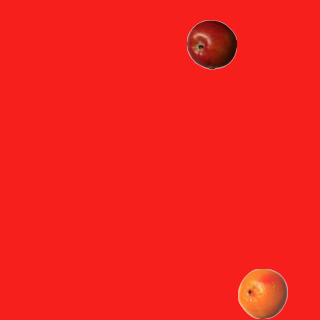Apple Braeburn: (186, 19, 236, 69)
Grapefruit Pink: (237, 268, 287, 318)
